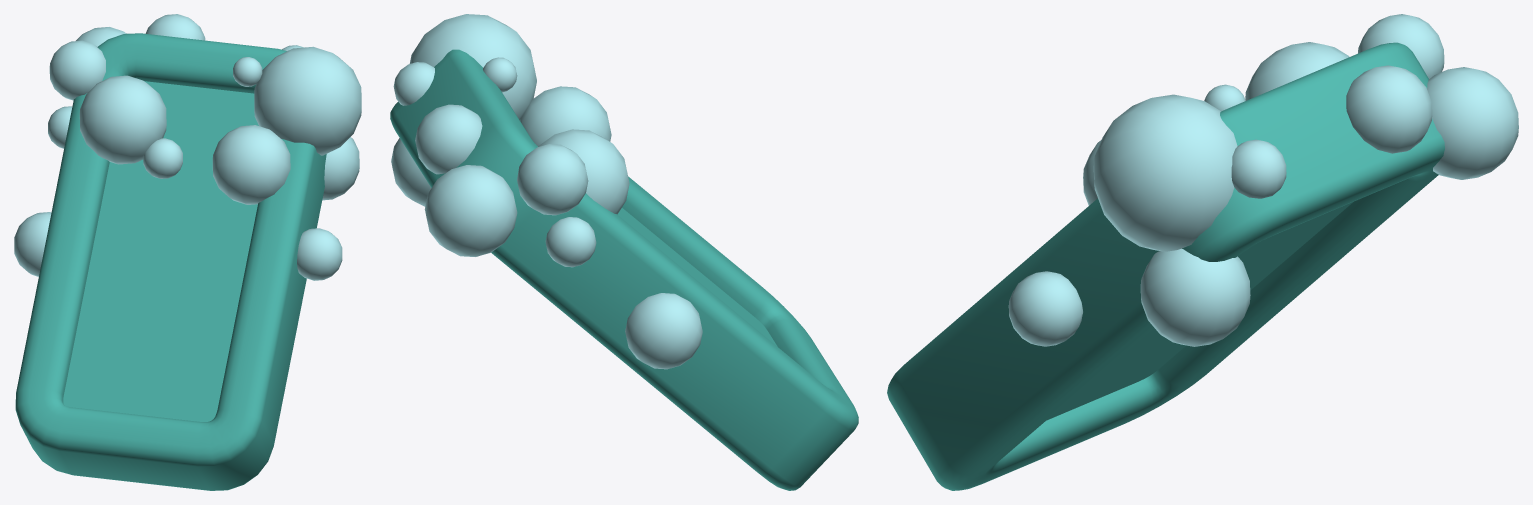
File: soap.glb
3 renders of one model, left to right at view 1: azimuth 30°, elevation 25°; view 2: azimuth 150°, elevation 25°; view 3: azimuth 270°, elevation 25°, orthographic. The views are drawn at different scales.
Parts seen in each view (by area): view 1: Cube.1016; view 2: Cube.1016; view 3: Cube.1016.
Boxes of the visible parts, x1,y1,x2,y2 form: Cube.1016: (14,14,361,490); Cube.1016: (390,14,858,490); Cube.1016: (887,14,1518,490).
Size of the model in its own units: 2.16 by 1.99 by 2.29.
1 material, 1 textured.
